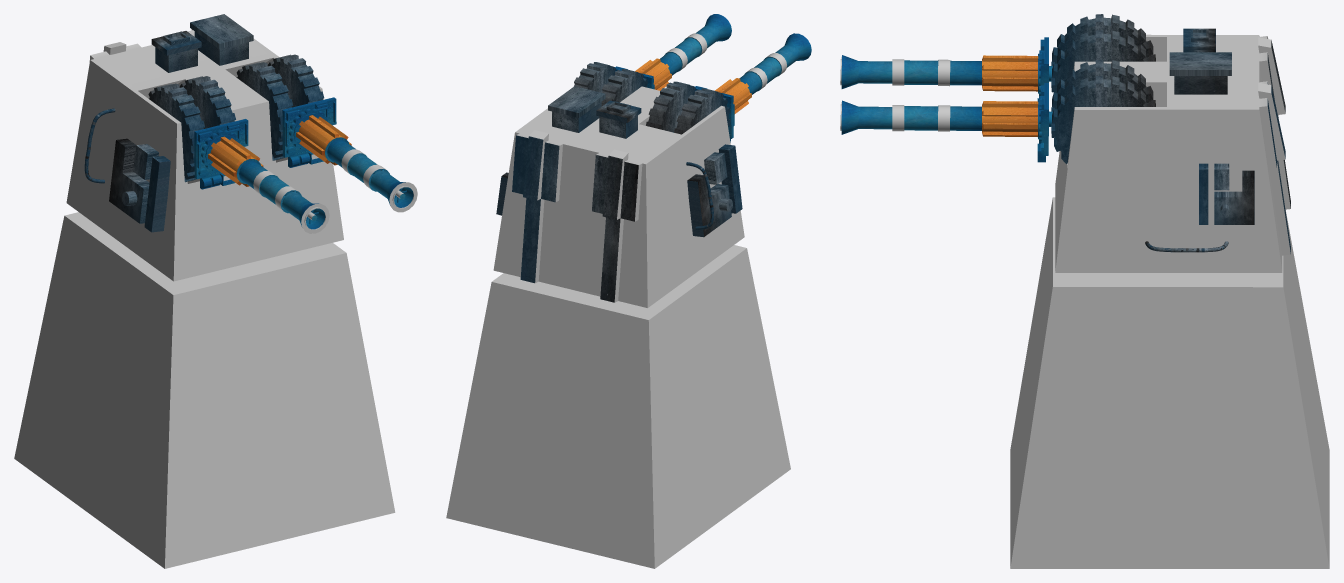
The model's file is building_turret.fbx.
The picture shows the model from 3 angles, left to right: view 1: azimuth 30°, elevation 25°; view 2: azimuth 150°, elevation 25°; view 3: azimuth 270°, elevation 25°; orthographic projection. The views are drawn at different scales.
Parts seen in each view (by area): view 1: base, top, L_gun, R_gun, L_gear, R_gear; view 2: base, top, R_gear, R_gun, L_gun, L_gear; view 3: base, top, L_gun, R_gun, L_gear, R_gear.
Part boxes in pixels (bbox=[...]): base: bbox=[14, 212, 395, 568]; top: bbox=[66, 14, 343, 281]; L_gun: bbox=[282, 97, 417, 212]; R_gun: bbox=[194, 119, 329, 233]; L_gear: bbox=[236, 54, 324, 160]; R_gear: bbox=[148, 76, 235, 182]; base: bbox=[446, 245, 790, 568]; top: bbox=[493, 86, 744, 307]; R_gear: bbox=[646, 81, 730, 134]; R_gun: bbox=[673, 33, 811, 142]; L_gun: bbox=[614, 14, 731, 90]; L_gear: bbox=[574, 62, 649, 106]; base: bbox=[1010, 197, 1329, 568]; top: bbox=[1055, 28, 1290, 272]; L_gun: bbox=[840, 83, 1052, 162]; R_gun: bbox=[840, 37, 1052, 101]; L_gear: bbox=[1051, 59, 1155, 163]; R_gear: bbox=[1051, 14, 1155, 93].
Size of the model in its own units: 4.85 by 8.89 by 8.41.
